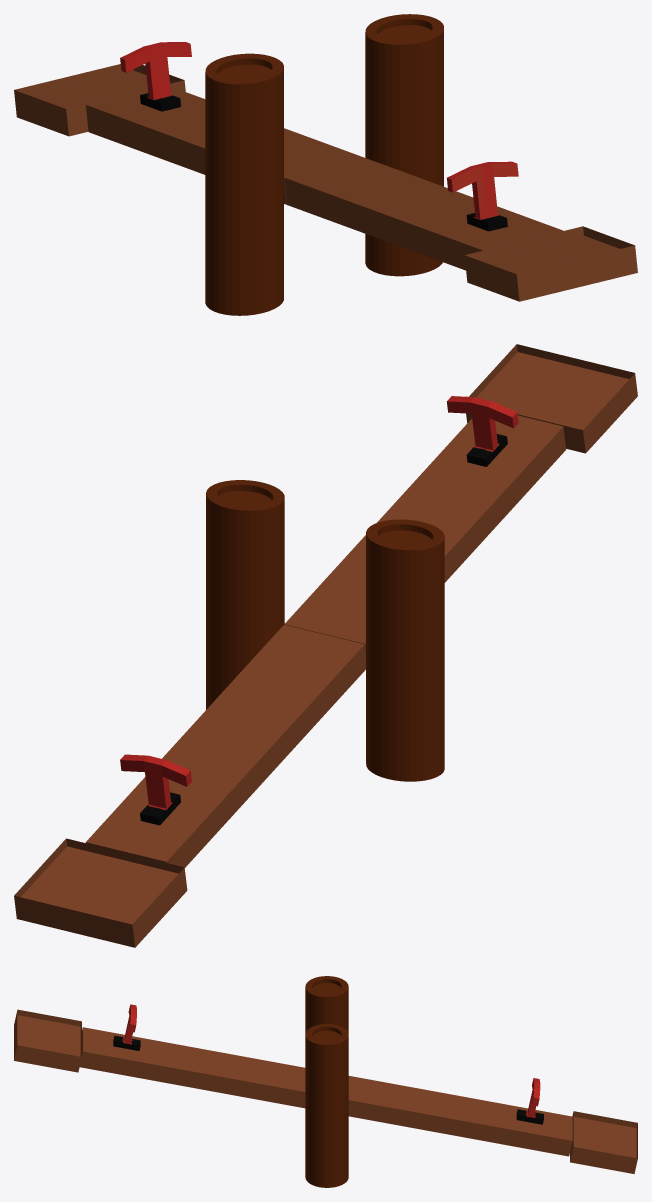
The model's file is gangorra.fbx.
The picture shows the model from 3 angles, top to bottom: view 1: azimuth 30°, elevation 25°; view 2: azimuth 150°, elevation 25°; view 3: azimuth 270°, elevation 25°; orthographic projection. The views are drawn at different scales.
Visible parts, largest first — view 1: Gangorra_LOD1; view 2: Gangorra_LOD1; view 3: Gangorra_LOD1.
Part boxes in pixels (x1,y1,x2,y2): Gangorra_LOD1: [14, 14, 637, 315]; Gangorra_LOD1: [14, 344, 637, 947]; Gangorra_LOD1: [14, 976, 637, 1187].
Bounding box in the file's own units: 262 × 257 × 996.
1 material, 1 textured.
